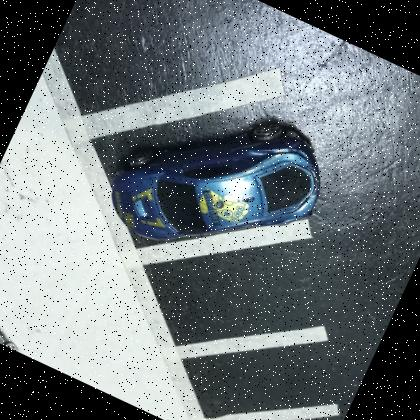Car: (111, 120, 321, 241)
